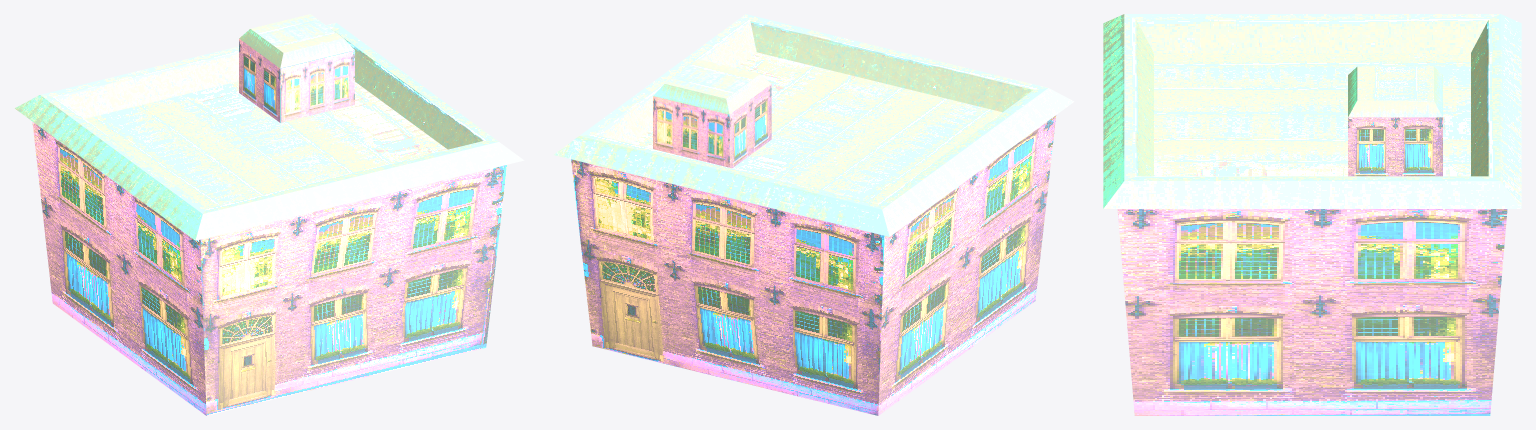
The model's file is castle_outbuilding1.glb.
3 renders of one model, left to right at view 1: azimuth 30°, elevation 25°; view 2: azimuth 150°, elevation 25°; view 3: azimuth 270°, elevation 25°, orthographic. The views are drawn at different scales.
Visible parts, largest first — view 1: castle_outbuilding1; view 2: castle_outbuilding1; view 3: castle_outbuilding1.
Boxes of the visible parts, x1,y1,x2,y2 form: castle_outbuilding1: (15, 14, 524, 415); castle_outbuilding1: (554, 14, 1074, 415); castle_outbuilding1: (1103, 14, 1521, 415).
Size of the model in its own units: 9.88 by 7.18 by 9.41.
